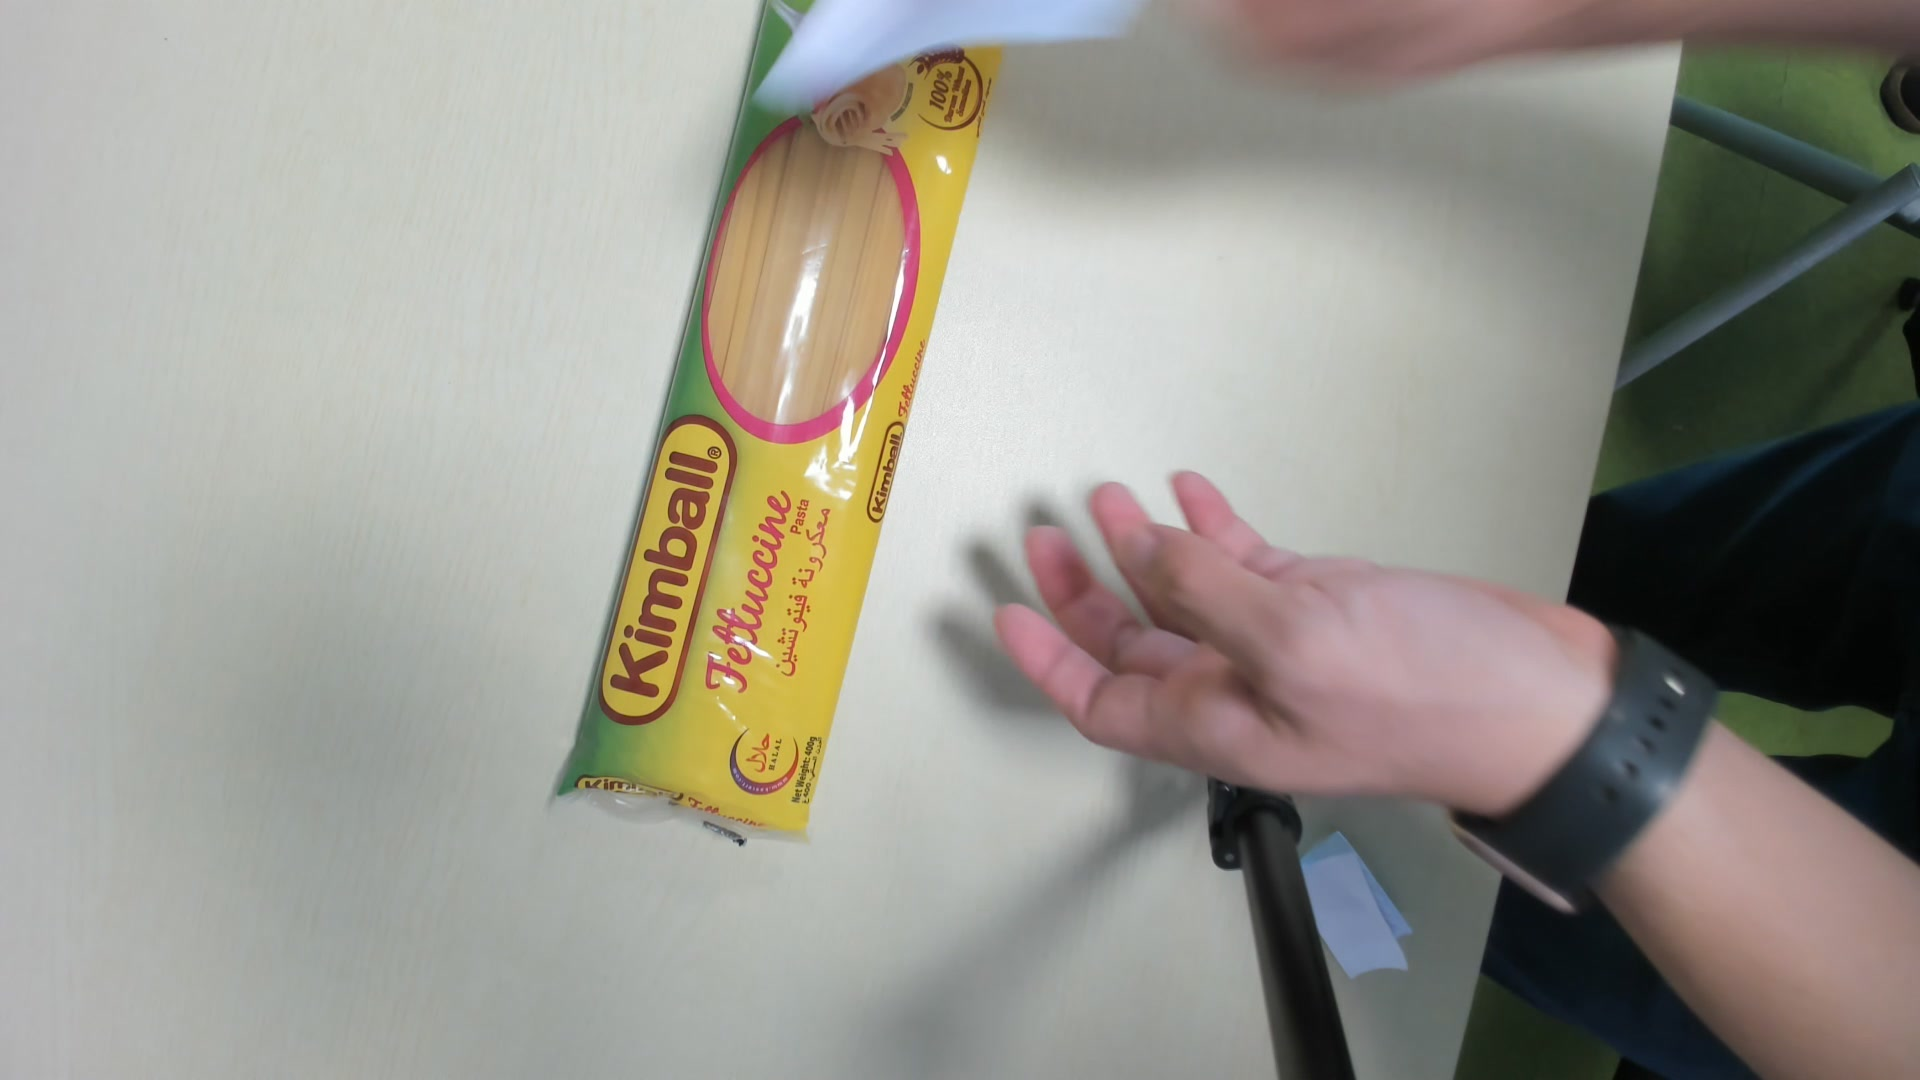Pasta_400-499g_Halal_NonHealthy: (563, 5, 1002, 855)
